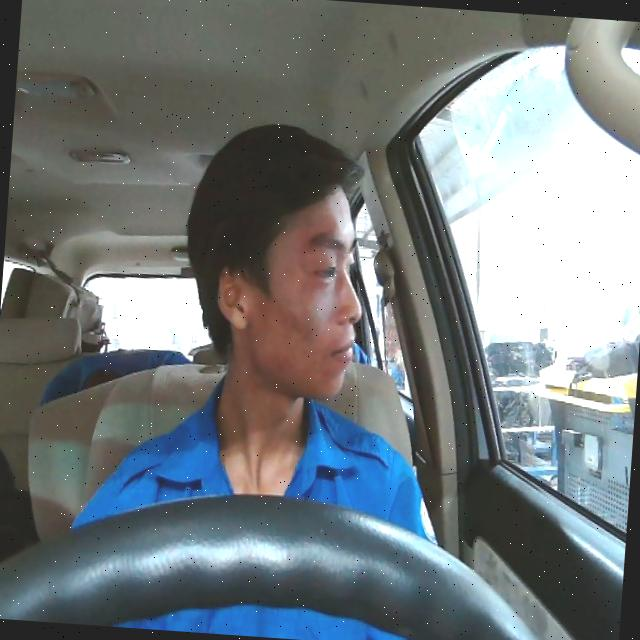seeing_right: (207, 173, 371, 402)
